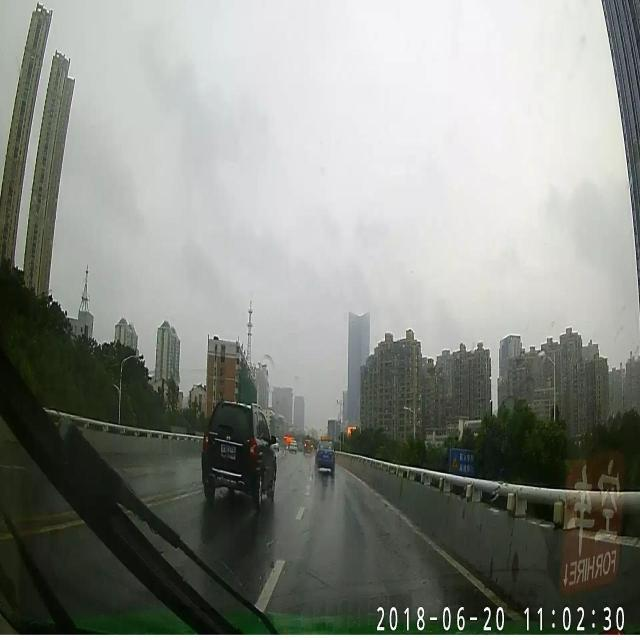car: (200, 396, 278, 509), (314, 436, 336, 474)
